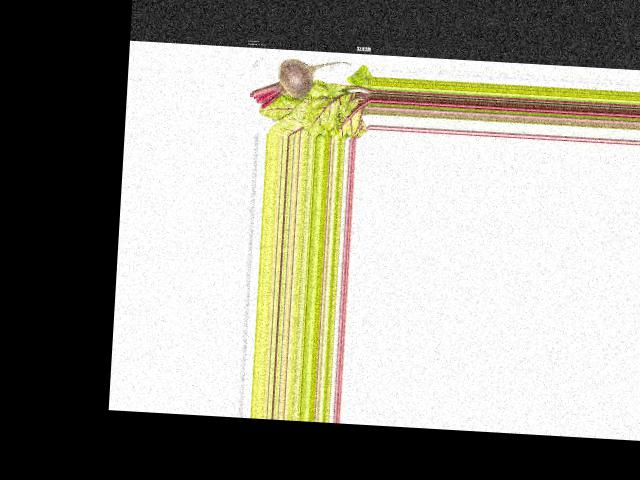beet: (249, 55, 351, 113)
